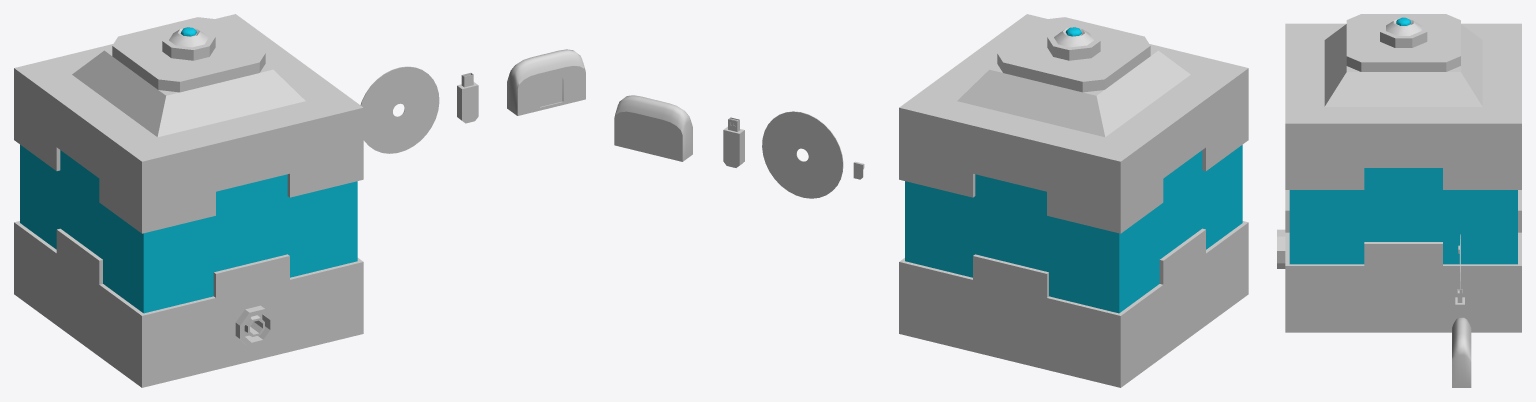
File: Nigdycaptur_czytnik_.fbx
3 views of the same model, side by side, from view 1: azimuth 30°, elevation 25°; view 2: azimuth 150°, elevation 25°; view 3: azimuth 270°, elevation 25° (orthographic). The views are drawn at different scales.
Visible parts, largest first — view 1: Reader, CD disc, Cardrige, Pendrive 1; view 2: Reader, CD disc, Cardrige, Pendrive 1; view 3: Reader, Cardrige, Pendrive 1.
Part boxes in pixels (x1,y1,x2,y2): Reader: (14,14,363,387); CD disc: (360,66,439,153); Cardrige: (507,49,585,115); Pendrive 1: (457,72,478,123); Reader: (899,14,1248,387); CD disc: (762,111,843,198); Cardrige: (614,95,692,161); Pendrive 1: (723,117,744,167); Reader: (1277,14,1521,332); Cardrige: (1452,317,1471,387); Pendrive 1: (1455,289,1464,320).
Size of the model in its own units: 482 by 246 by 207.
